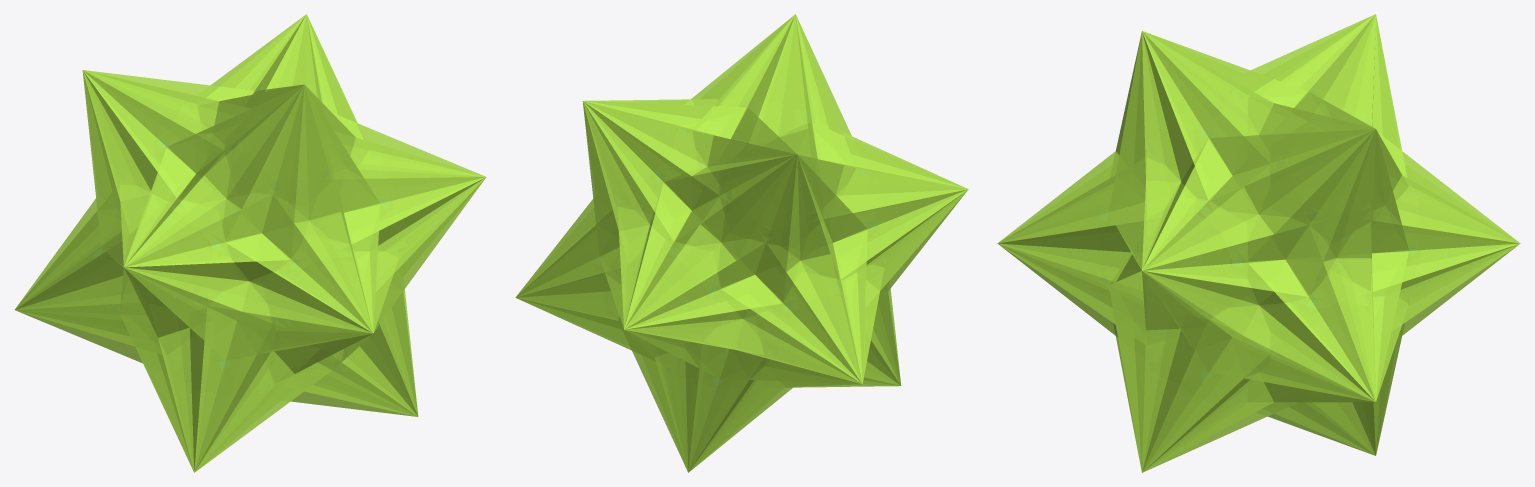
Rendered from 38_Dodecaugmented_Quitgissid.obj.
3 views of the same model, side by side, from view 1: azimuth 30°, elevation 25°; view 2: azimuth 150°, elevation 25°; view 3: azimuth 270°, elevation 25° (orthographic). The views are drawn at different scales.
Size of the model in its own units: 1.72 by 1.81 by 2.02.
